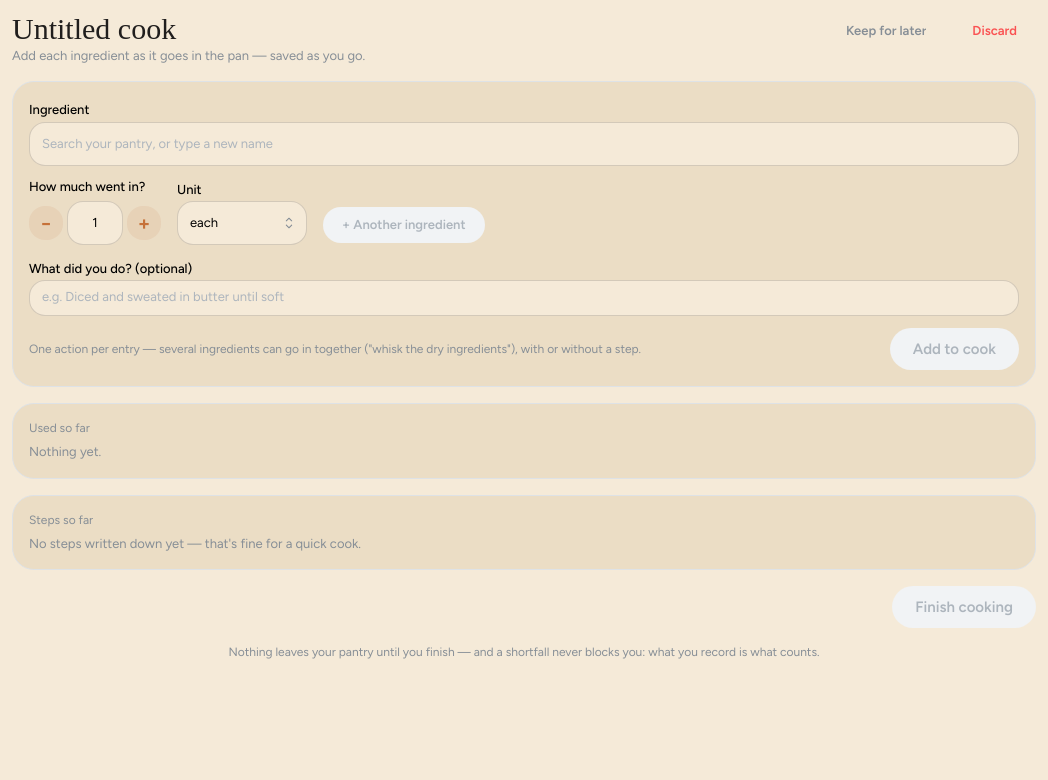
AdHocCookPage › a staged ingredient can be removed before posting
In the field labelled "Ingredient": {"x": 524, "y": 144} left=29, top=122, right=1019, bottom=166, type "Olive oil"
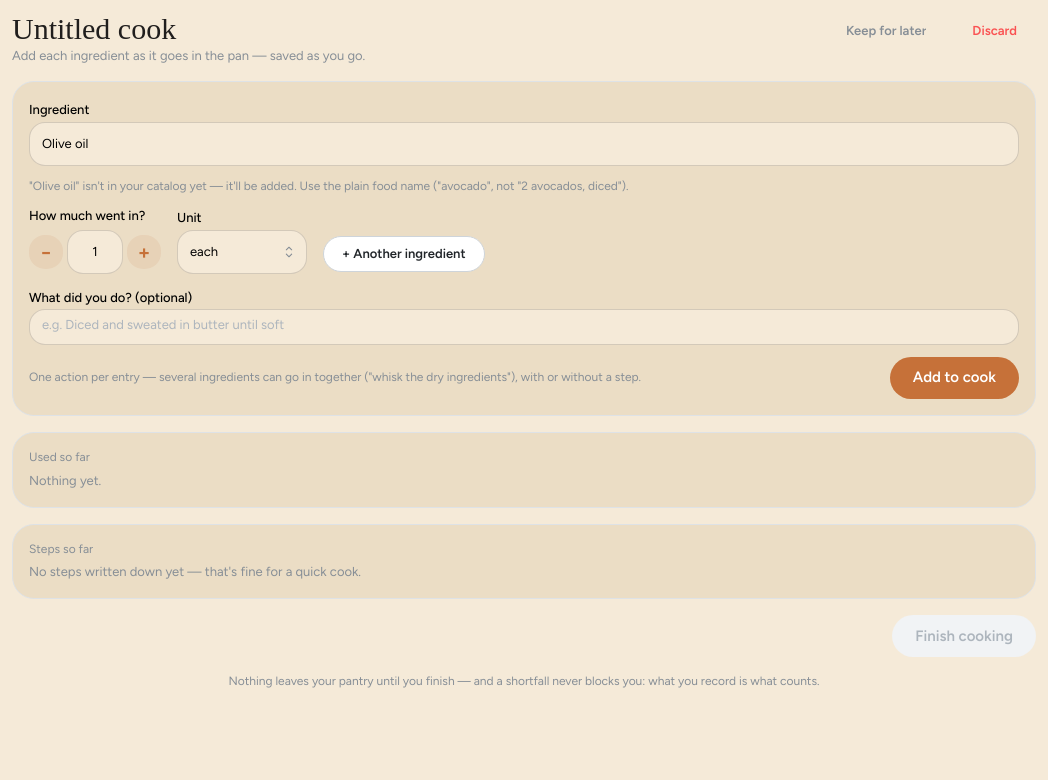
Click the button "+ Another ingredient": {"x": 404, "y": 254} left=323, top=236, right=484, bottom=272
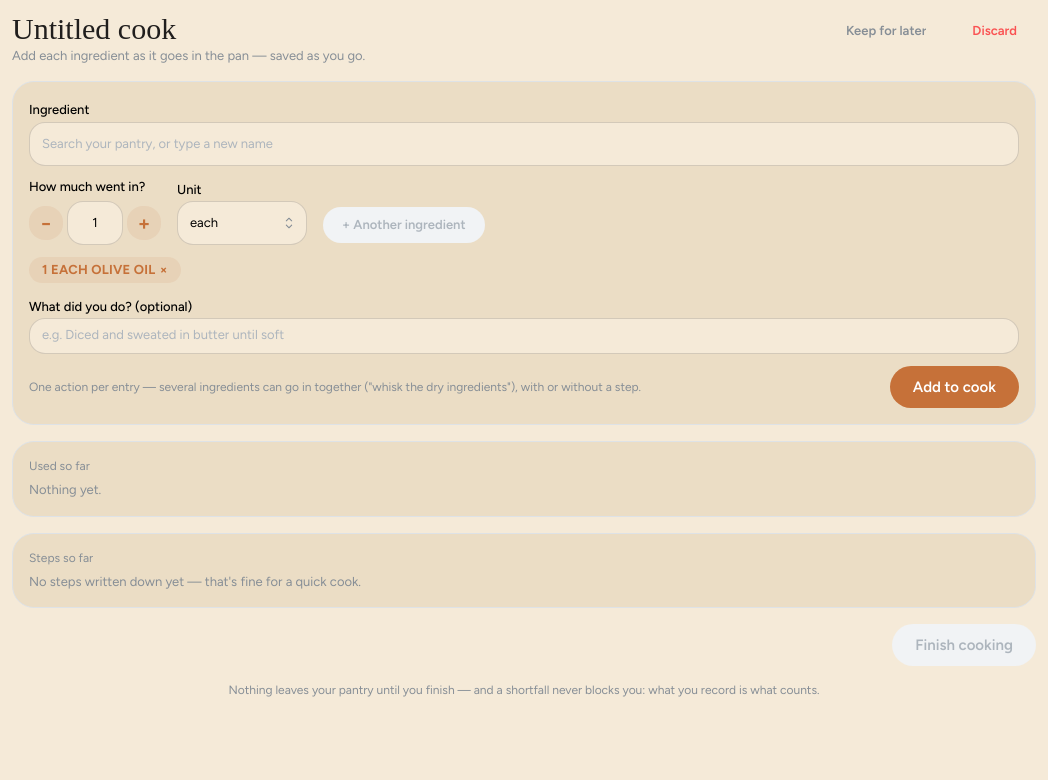
Check: the text "1 each Olive oil" is shown, box left=42, top=258, right=156, bottom=282
Click the button named "Remove Olive oil": {"x": 164, "y": 270} left=160, top=258, right=168, bottom=282
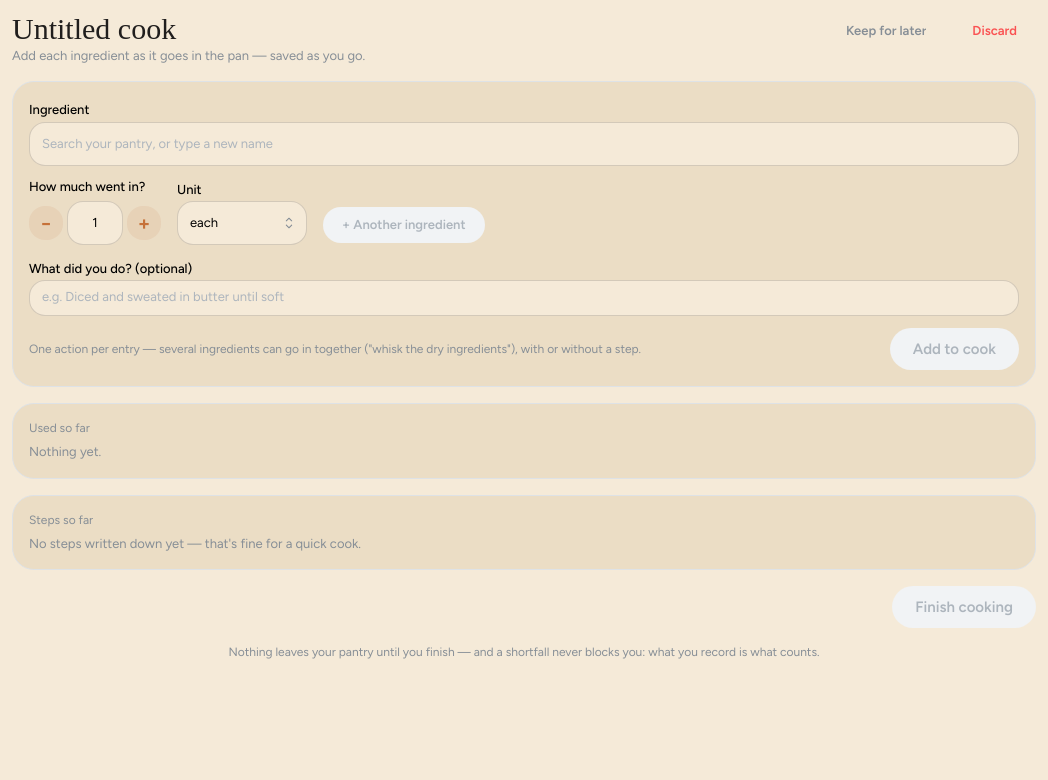
Check: the text "1 each Olive oil" is gone
